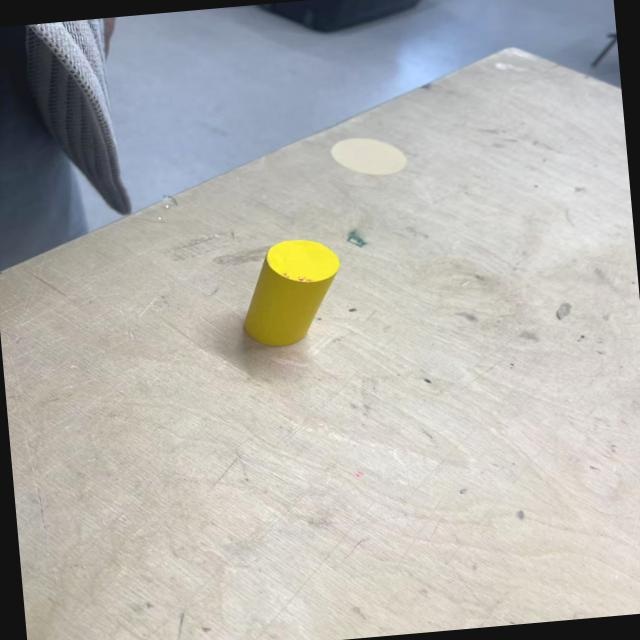yellow_cylinder: (234, 235, 348, 350)
